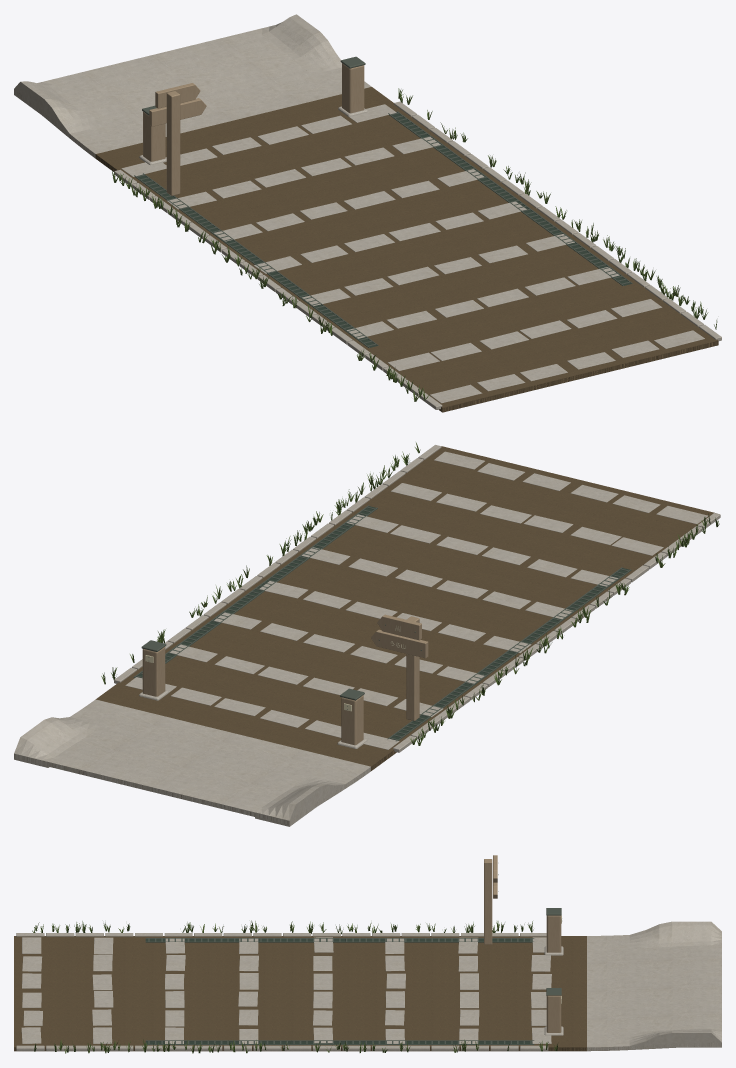
File: connector-v9.glb
3 views of the same model, one above another, from view 1: azimuth 30°, elevation 25°; view 2: azimuth 150°, elevation 25°; view 3: azimuth 270°, elevation 25° (orthographic). The views are drawn at different scales.
Visible parts, largest first — view 1: V9_Connector_static, V9_Connector_grass; view 2: V9_Connector_static, V9_Connector_grass; view 3: V9_Connector_static, V9_Connector_grass.
Part boxes in pixels (bbox=[...]): V9_Connector_static: bbox=[14, 14, 721, 412]; V9_Connector_grass: bbox=[112, 88, 717, 401]; V9_Connector_static: bbox=[14, 445, 720, 826]; V9_Connector_grass: bbox=[101, 442, 719, 745]; V9_Connector_static: bbox=[14, 855, 721, 1051]; V9_Connector_grass: bbox=[32, 920, 557, 1053].
Bounding box in the file's own units: 4.52 × 1.46 × 10.75.
Materials: 7 (4 with a texture image).
